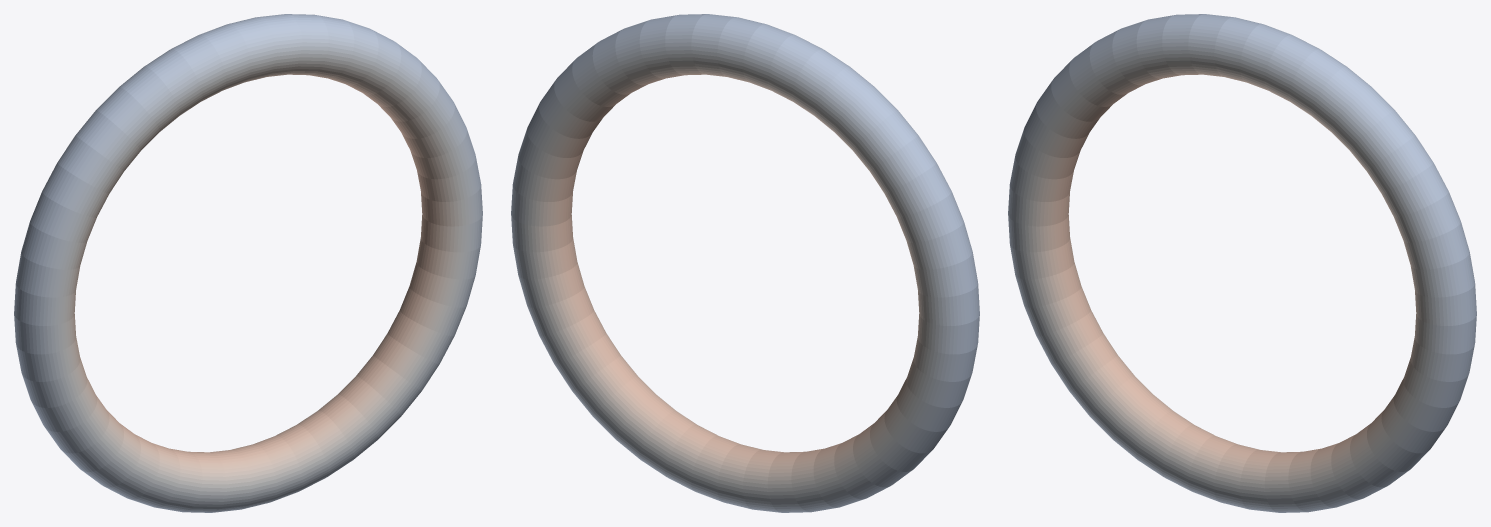
3 views of the same model, side by side, from view 1: azimuth 30°, elevation 25°; view 2: azimuth 150°, elevation 25°; view 3: azimuth 330°, elevation 25° (orthographic).
Visible parts, largest first — view 1: world; view 2: world; view 3: world.
Boxes of the visible parts, bbox=[...] form: world: bbox=[14, 14, 482, 512]; world: bbox=[511, 14, 979, 512]; world: bbox=[1008, 14, 1476, 512].
Size of the model in its own units: 33.87 by 33.8 by 3.86.
